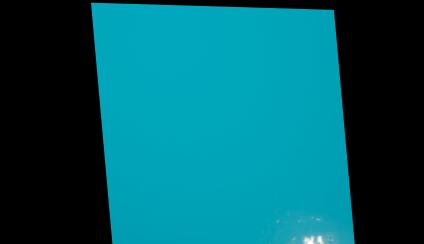boat: (90, 2, 172, 48)
drone: (90, 2, 159, 32)
land_base: (263, 193, 350, 244)
